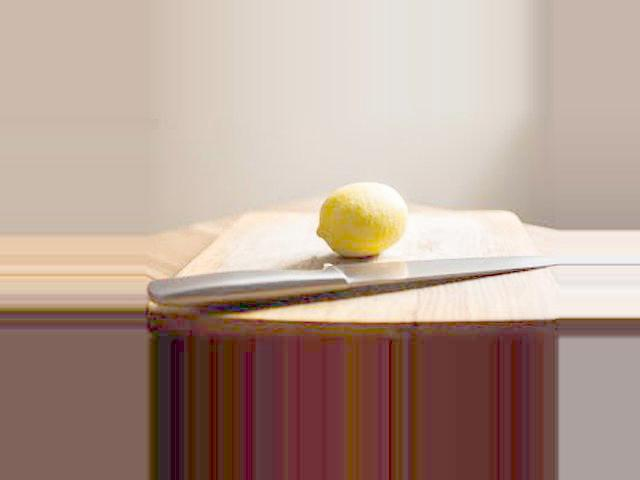lemon: (310, 177, 419, 257)
